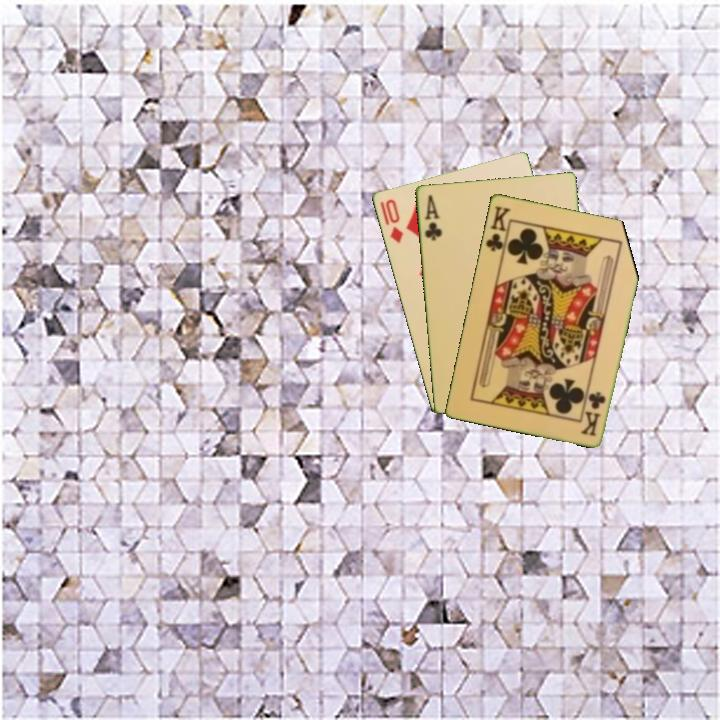10d: (376, 195, 406, 246)
Ac: (421, 191, 445, 243)
Kc: (482, 202, 513, 258), (578, 388, 608, 439)
